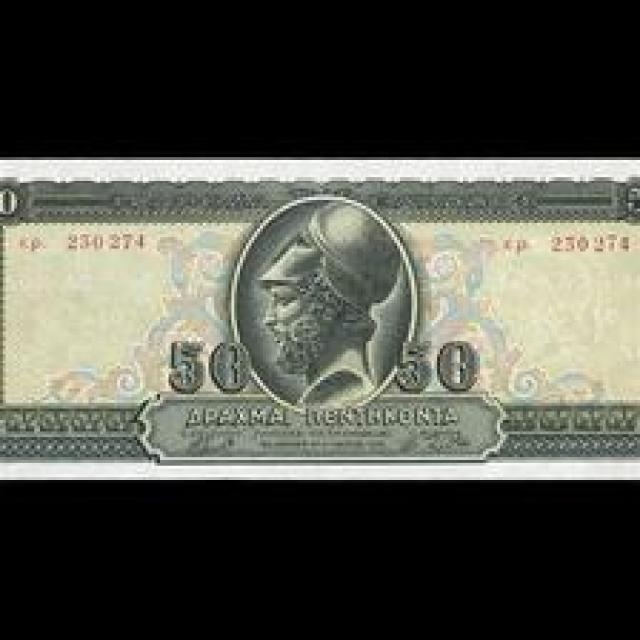banknote: (1, 154, 640, 479), (390, 332, 484, 399), (162, 337, 255, 399)
